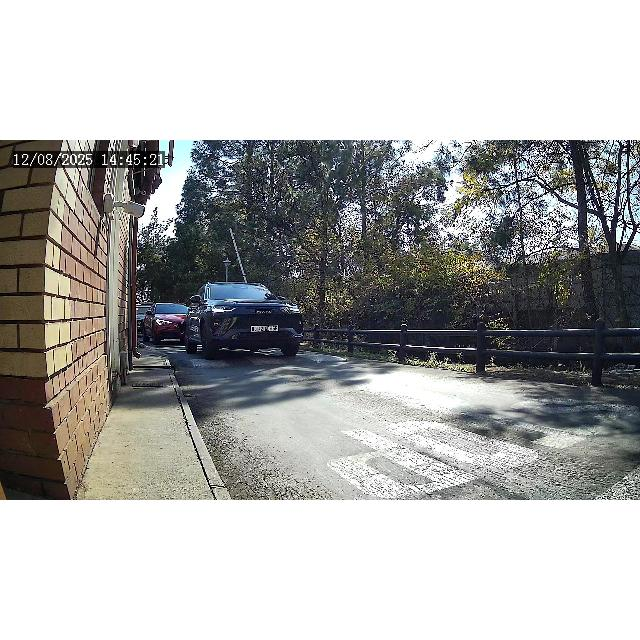car: (182, 282, 304, 358), (143, 302, 190, 346)
plate: (249, 324, 279, 334)
